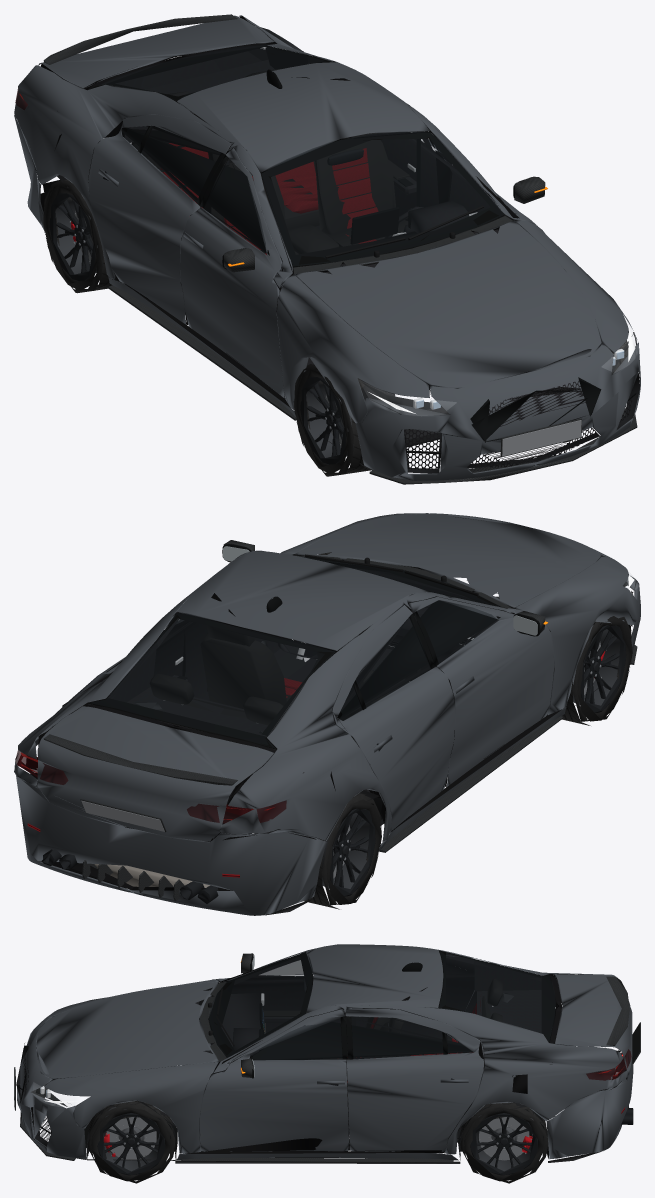
The picture shows the model from 3 angles, top to bottom: view 1: azimuth 30°, elevation 25°; view 2: azimuth 150°, elevation 25°; view 3: azimuth 270°, elevation 25°; orthographic projection. The views are drawn at different scales.
Visible parts, largest first — view 1: Body, Wheel_FR, Wheel_RR; view 2: Body, Wheel_RR, Wheel_FR; view 3: Body, Wheel_FL, Wheel_RL.
Boxes of the visible parts, <box> form: Body: <box>14,14,640,484</box>; Wheel_FR: <box>294,362,382,476</box>; Wheel_RR: <box>43,180,122,293</box>; Body: <box>14,513,640,915</box>; Wheel_RR: <box>304,793,381,909</box>; Wheel_FR: <box>553,616,632,725</box>; Body: <box>14,944,640,1163</box>; Wheel_FL: <box>87,1101,175,1183</box>; Wheel_RL: <box>460,1102,548,1183</box>.
Bounding box in the file's own units: 2.1 × 1.45 × 4.81.
Materials: 58 (11 with a texture image).
